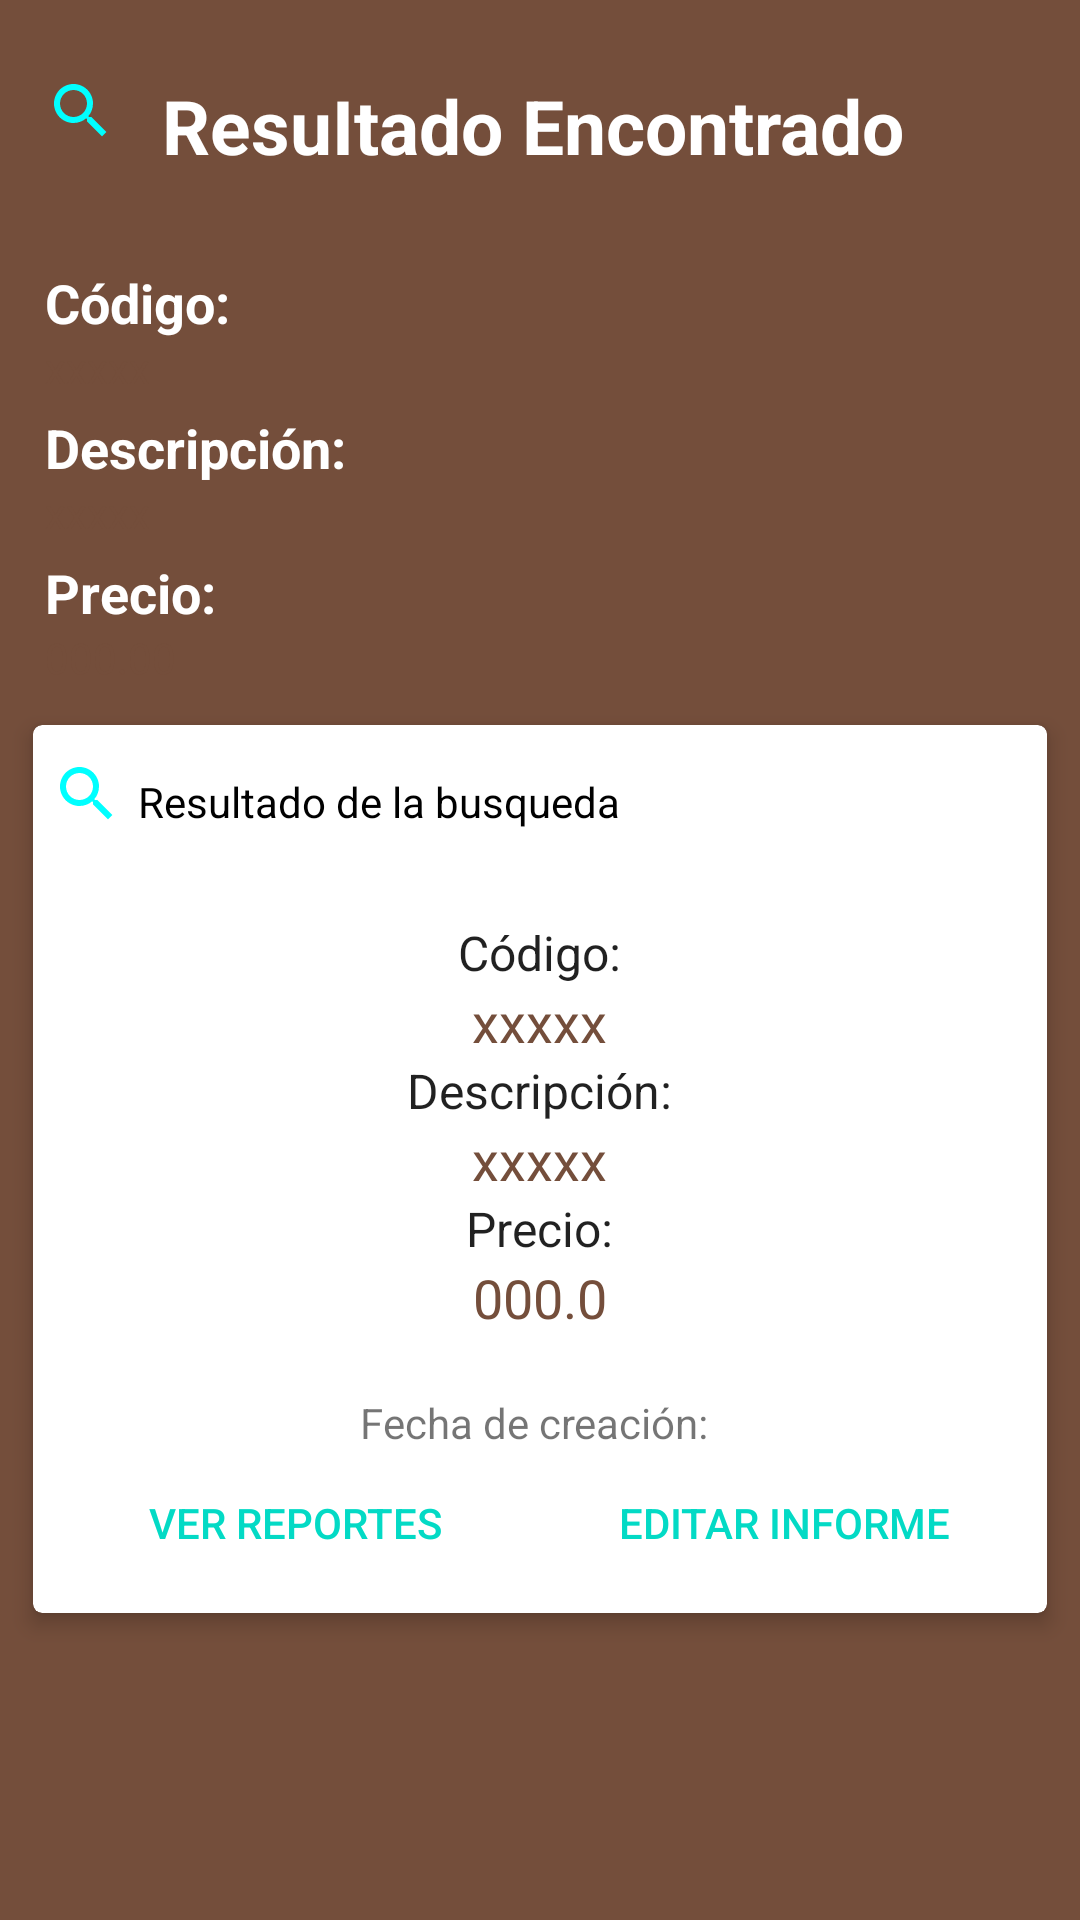

Where to tap for icons on this 1080*1920 app screen, as [x,y]:
search: [80,110], [86,793]
